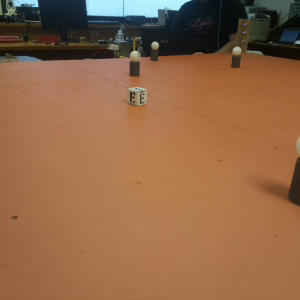blockE: (128, 86, 147, 107)
corner: (236, 18, 248, 52)
obstacle: (286, 131, 300, 209), (129, 51, 140, 77), (231, 45, 241, 68), (150, 41, 160, 62)
